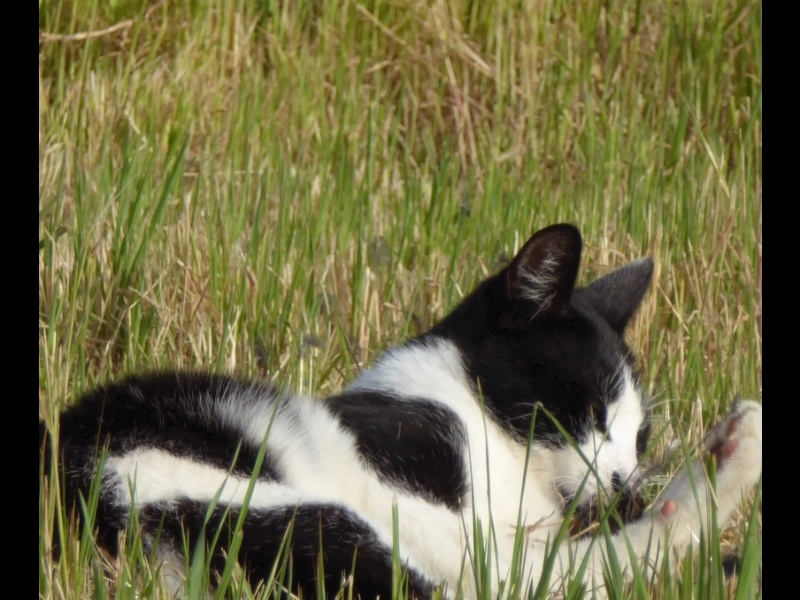cat: (45, 220, 755, 593)
